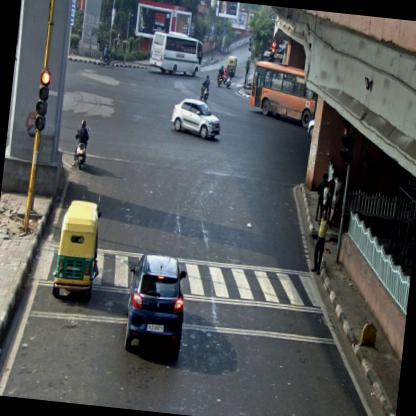bus: (248, 58, 318, 130), (147, 29, 204, 78)
car: (121, 251, 190, 358), (170, 96, 224, 141)
motorcycle: (72, 118, 91, 170), (199, 74, 209, 102), (216, 66, 223, 86), (221, 65, 228, 85), (226, 68, 232, 88)
